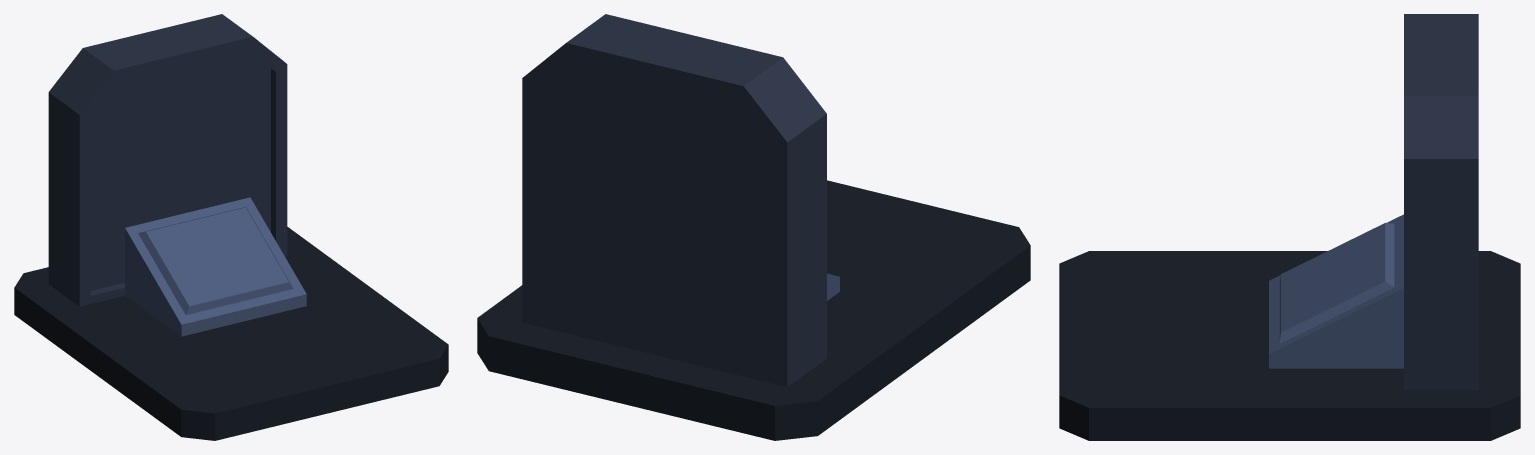
File: grave1.FBX
The picture shows the model from 3 angles, left to right: view 1: azimuth 30°, elevation 25°; view 2: azimuth 150°, elevation 25°; view 3: azimuth 270°, elevation 25°; orthographic projection. The views are drawn at different scales.
Parts seen in each view (by area): view 1: grave1; view 2: grave1; view 3: grave1.
Boxes of the visible parts, x1,y1,x2,y2 form: grave1: [14, 14, 448, 440]; grave1: [477, 14, 1030, 440]; grave1: [1059, 14, 1520, 440].
Size of the model in its own units: 13.31 by 12.15 by 16.53.
